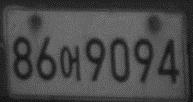0: (109, 36, 130, 83)
4: (155, 38, 181, 84)
6: (35, 35, 57, 80)
8: (12, 36, 33, 81)
9: (133, 38, 155, 84), (84, 36, 105, 82)
어: (58, 44, 82, 83)
